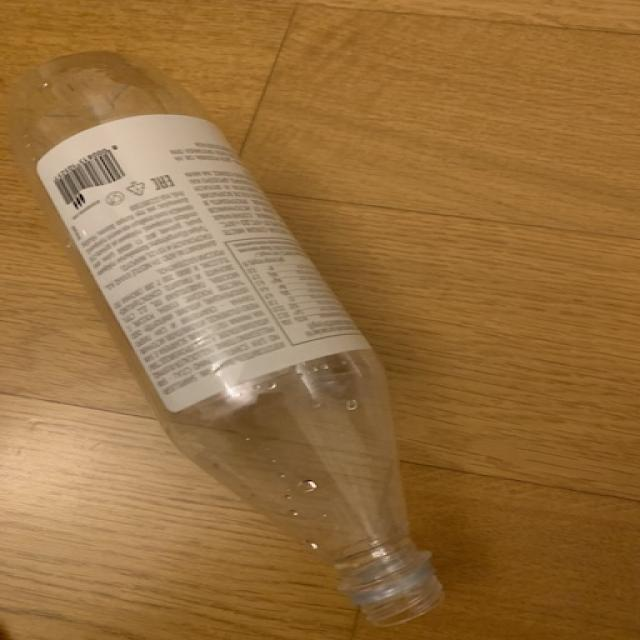litter: (6, 48, 446, 630)
